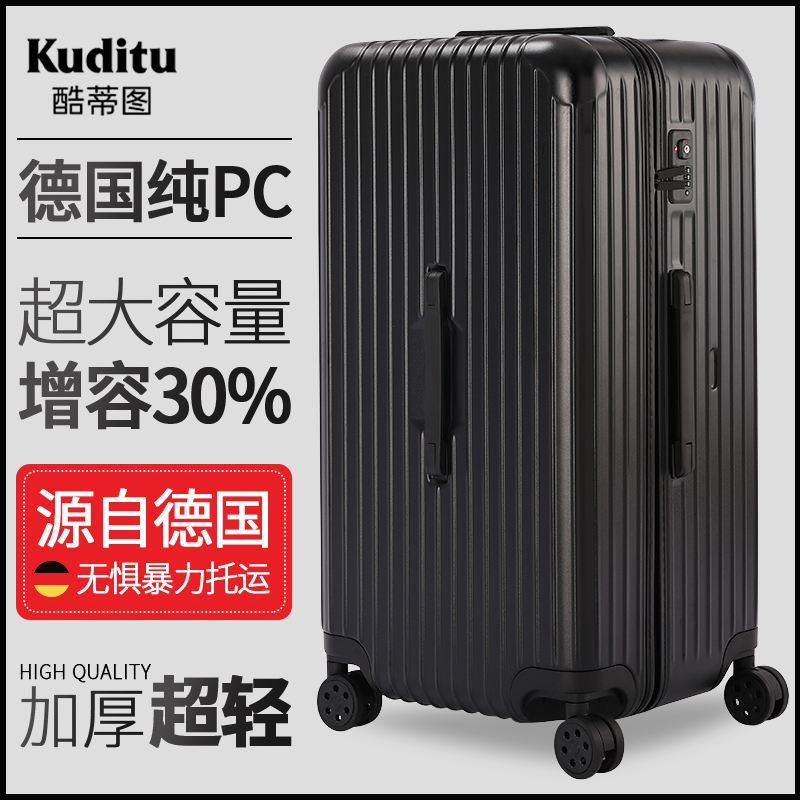box: (318, 35, 756, 723)
handle: (671, 268, 703, 479)
lock: (657, 129, 694, 212)
wheel: (554, 713, 625, 780), (317, 669, 382, 732), (724, 665, 790, 726)
